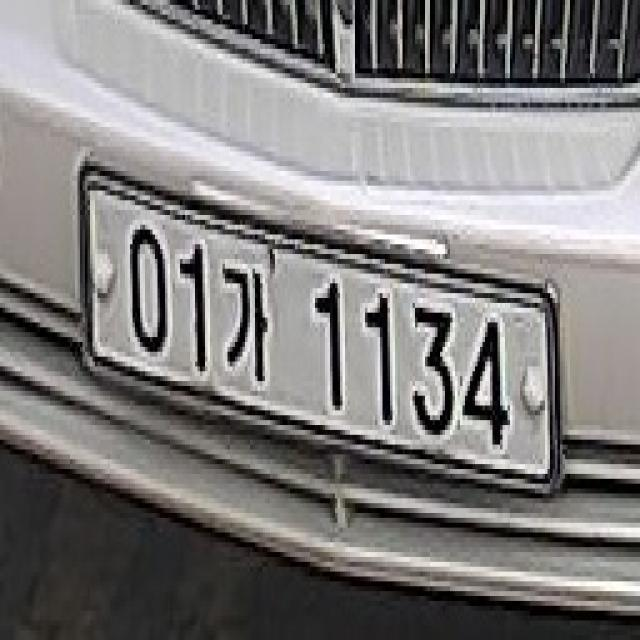0: (120, 211, 173, 365)
1: (296, 266, 352, 427), (359, 286, 406, 437), (170, 230, 216, 384)
3: (406, 296, 461, 452)
4: (456, 307, 518, 460)
ga: (214, 245, 276, 396)
license_plate: (86, 171, 552, 485)
